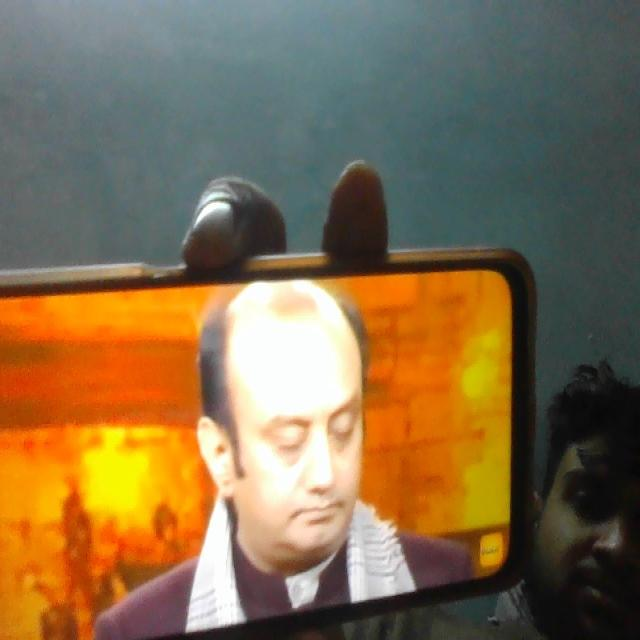fake: (209, 275, 381, 600)
